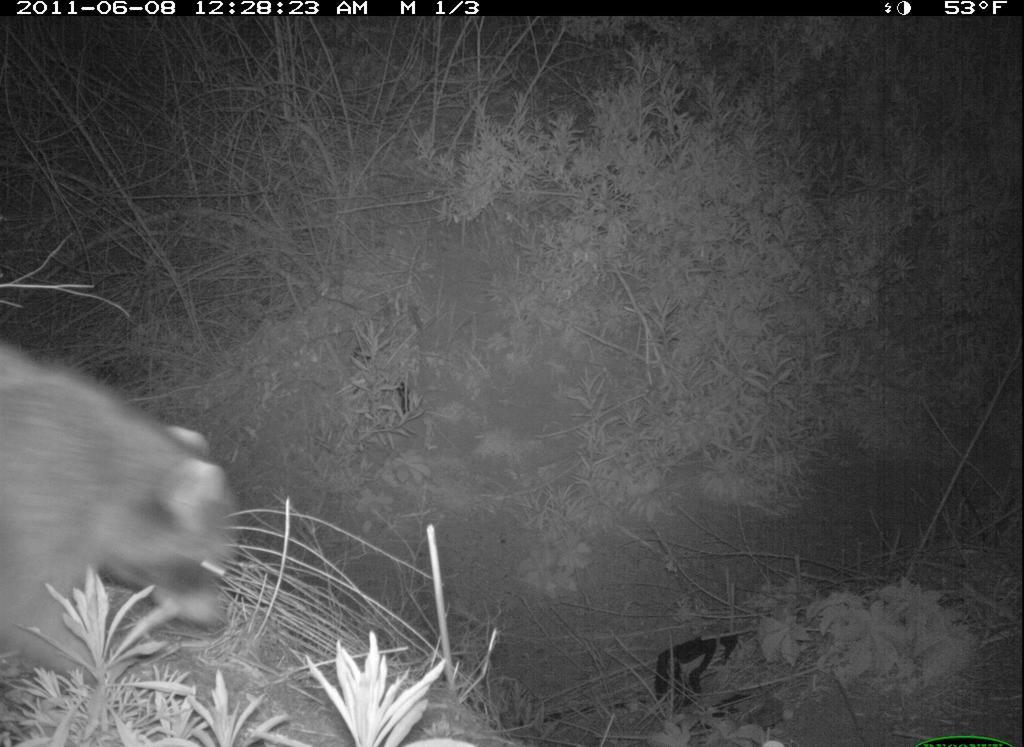raccoon: (1, 327, 274, 714)
